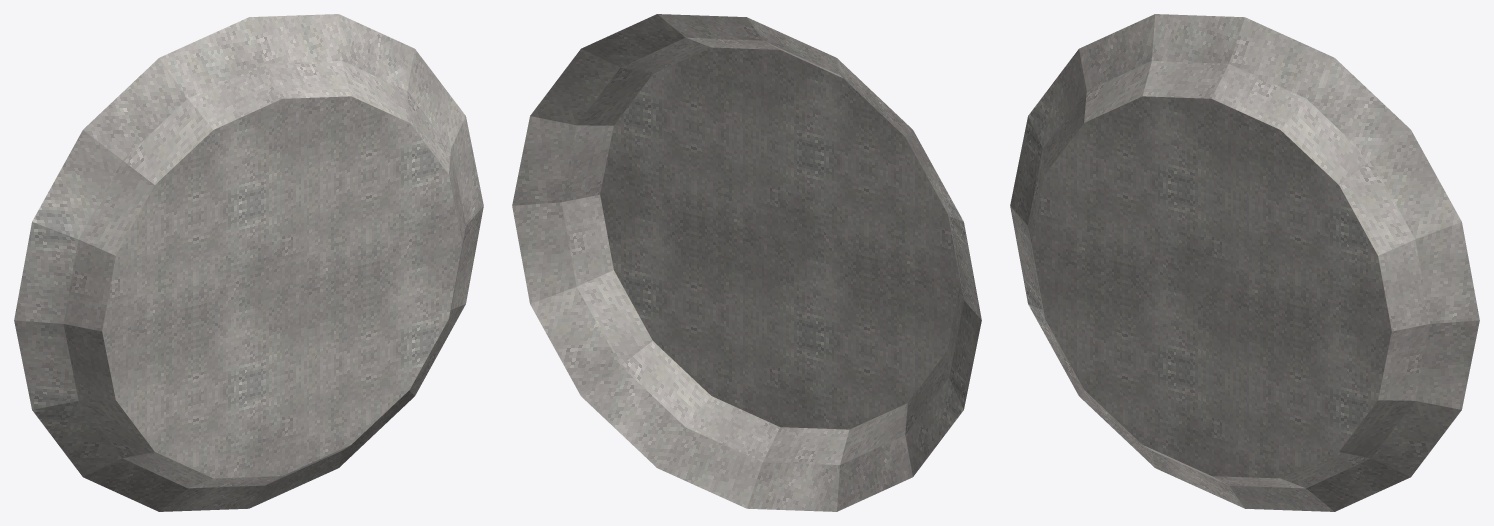
Rendered from jc-gj-206-geode.glb.
3 views of the same model, side by side, from view 1: azimuth 30°, elevation 25°; view 2: azimuth 150°, elevation 25°; view 3: azimuth 330°, elevation 25° (orthographic).
Parts seen in each view (by area): view 1: Node; view 2: Node; view 3: Node.
Boxes of the visible parts, left/top/right/bottom form: Node: left=14, top=14, right=483, bottom=511; Node: left=512, top=14, right=981, bottom=511; Node: left=1010, top=14, right=1479, bottom=511.
Bounding box in the file's own units: 0.7139 × 0.7139 × 0.0879.
1 material, 1 textured.
